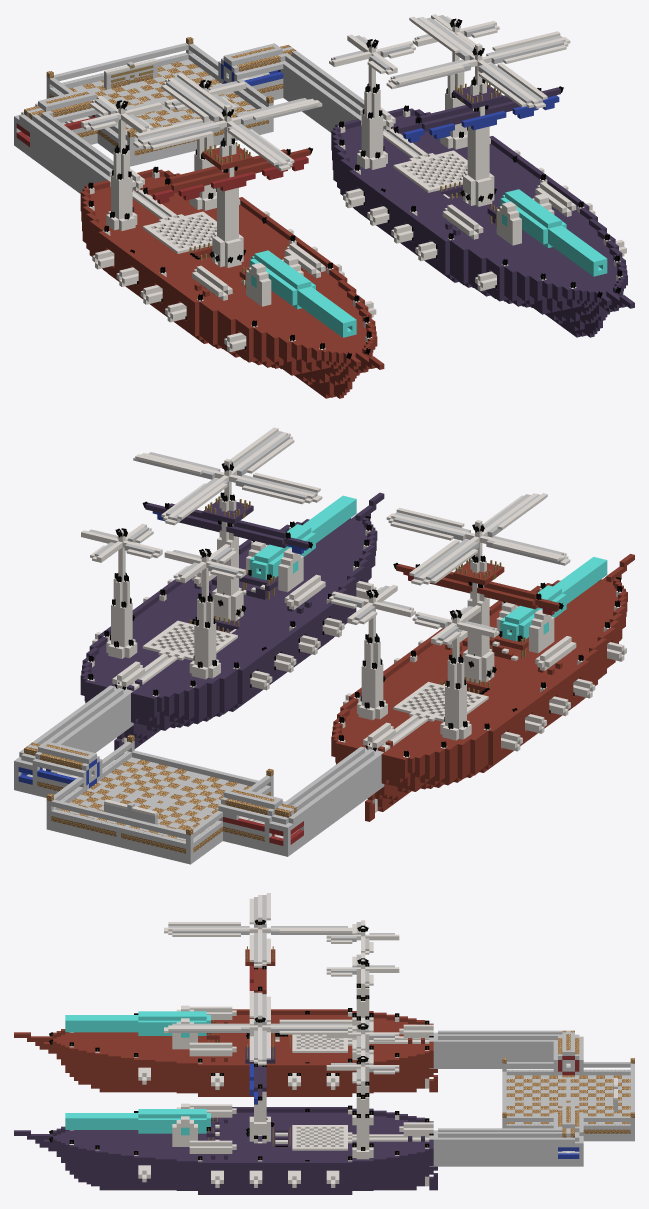
The model's file is minecraft.obj.
3 views of the same model, one above another, from view 1: azimuth 30°, elevation 25°; view 2: azimuth 150°, elevation 25°; view 3: azimuth 270°, elevation 25° (orthographic). The views are drawn at different scales.
Bounding box in the file's own units: 93 × 45 × 145.
